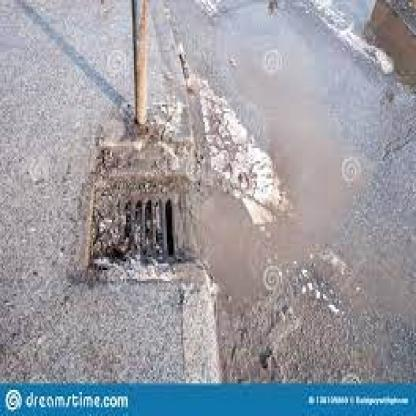open manhole-not overflowing-: (90, 181, 200, 268)
